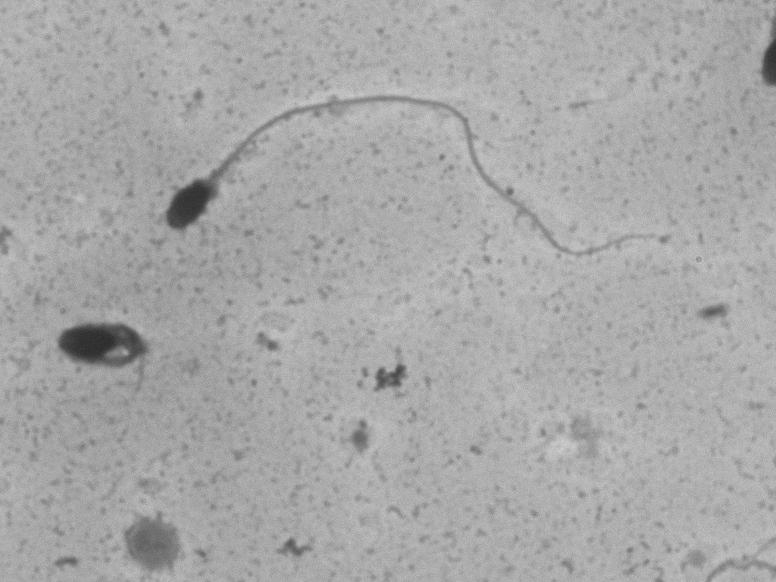Abnormal: (16, 289, 165, 428)
Normal: (145, 82, 698, 263)
